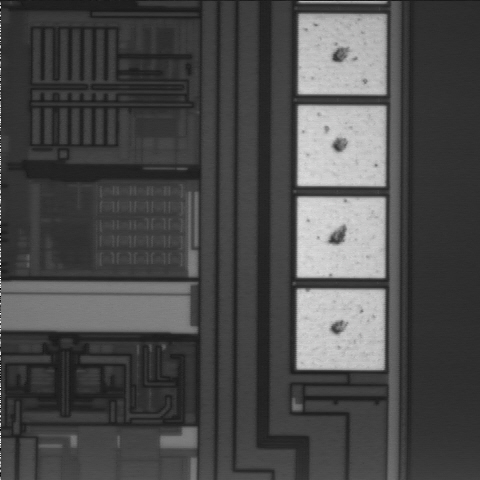pad: (297, 197, 385, 278), (298, 106, 385, 186), (297, 290, 384, 370), (299, 15, 385, 94)
